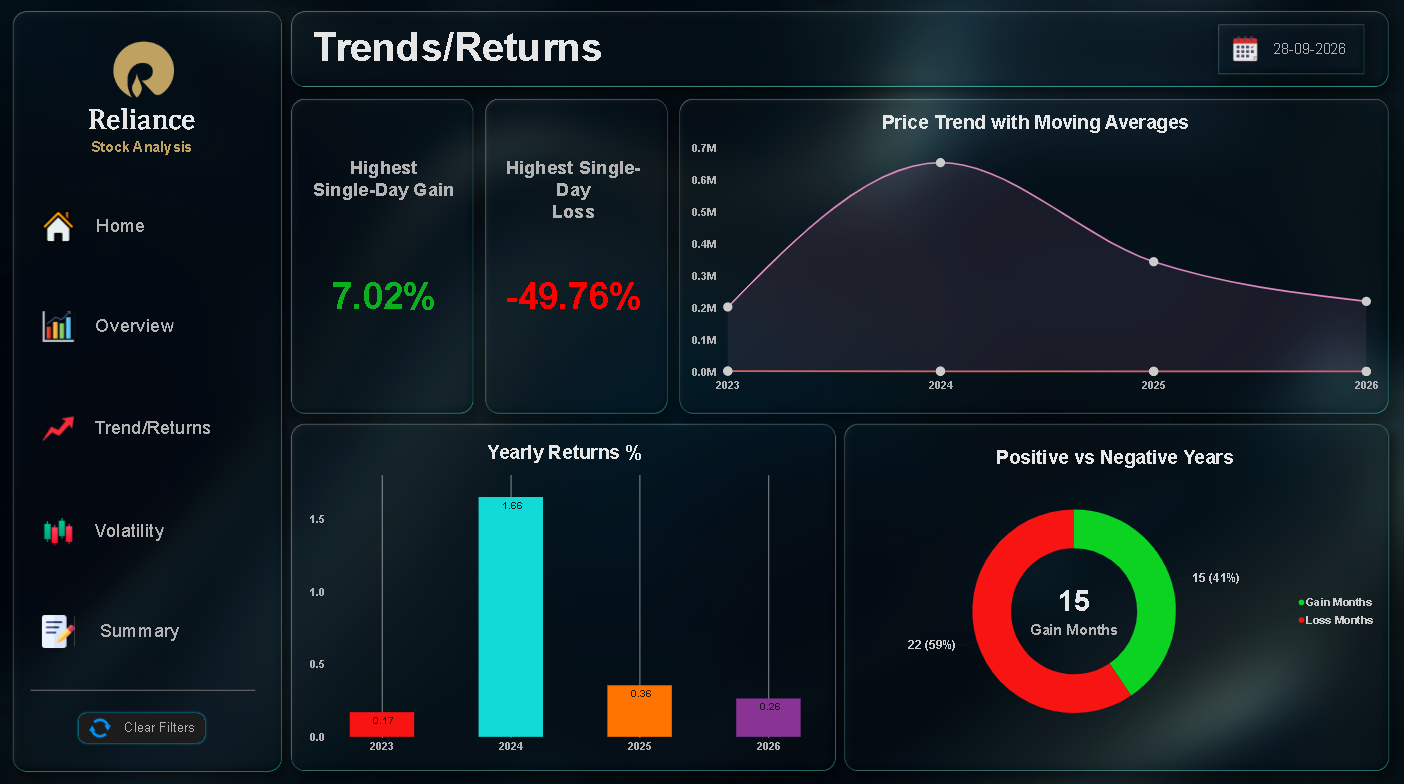

The dashboard page shown, as its layout file describes it:
{"tool":"powerbi","page":{"name":"Trends/Returns","canvas":[2560,1440],"ordinal":2},"visuals":[{"type":"image","box":[2246,69,48,48],"z":0,"group":"g1"},{"type":"lineChart","title":"Price Trend with Moving Averages","fields":{"Category":["Stock project row data.DATE.Variation.Date Hierarchy.Year","Stock project row data.DATE.Variation.Date Hierarchy.Quarter","Stock project row data.DATE.Variation.Date Hierarchy.Month","Stock project row data.DATE.Variation.Date Hierarchy.Day"],"Y":["Sum(Stock project row data.CLOSE)","Stock project row data.200 Day MA","Stock project row data.50 Day MA"]},"box":[1248,192,1280,544],"z":0},{"type":"textbox","box":[164.8,193.9,200,62.1],"z":0,"group":"g4"},{"type":"textbox","box":[2320,79,144,32],"z":1000,"group":"g1"},{"type":"cardVisual","title":"Highest Single-Day Gain","fields":{"Data":["Stock project row data.Highest Gain %"]},"box":[560,288,288,416],"z":1000},{"type":"image","box":[204.8,64,120,131.9],"z":2000,"group":"g4"},{"type":"textbox","box":[168.8,254,192,32],"z":2000,"group":"g5"},{"type":"cardVisual","title":"Highest Single-Day Loss","fields":{"Data":["Stock project row data.Highest Loss %"]},"box":[896,288,304,416],"z":2000},{"type":"clusteredColumnChart","title":"Yearly Returns %","fields":{"Category":["Stock project row data.Year"],"Y":["Stock project row data.Yearly Return %"]},"box":[552,792,960,600],"z":3000},{"type":"donutChart","title":"Positive vs Negative Years","fields":{"Y":["Stock project row data.Gain Months","Stock project row data.Loss Months"]},"box":[1536,800,992,576],"z":4000},{"type":"textbox","box":[576,48,888,120],"z":5000},{"type":"group","id":"g1","title":"Group 1","box":[2246,69,218,48],"z":6000},{"type":"group","id":"g2","title":"Group 5","box":[60.8,64,408,1232],"z":7000},{"type":"actionButton","box":[144,1296,240,64],"z":8000},{"type":"actionButton","box":[60.8,360,408,112],"z":10000,"group":"g3"},{"type":"group","id":"g3","title":"Group 1","box":[60.8,360,408,936],"z":11000,"group":"g2"},{"type":"actionButton","box":[60.8,541.9,408,112],"z":11000,"group":"g3"},{"type":"actionButton","box":[60.8,913.6,408,112],"z":12000,"group":"g3"},{"type":"group","id":"g4","title":"Group 3","box":[164.8,64,200,192],"z":13000,"group":"g5"},{"type":"actionButton","box":[60.8,723.8,408,120],"z":13000,"group":"g3"},{"type":"group","id":"g5","title":"Group 4","box":[164.8,64,200,222],"z":13001,"group":"g2"},{"type":"actionButton","box":[60.8,1095.5,408,112],"z":14000,"group":"g3"},{"type":"shape","box":[60.8,1224,408,72],"z":15000,"group":"g3"}]}

Visuals, with their boxes in screenshot pixels (x1, y1, x2, y2), scaled from the page's 2560x1440 canvas onto the 1404x784 screenshot:
image: (1232,38,1258,64)
"Price Trend with Moving Averages" lineChart: (684,105,1386,401)
textbox: (90,106,200,139)
textbox: (1272,43,1351,60)
"Highest Single-Day Gain" cardVisual: (307,157,465,383)
image: (112,35,178,107)
textbox: (93,138,198,156)
"Highest Single-Day Loss" cardVisual: (491,157,658,383)
"Yearly Returns %" clusteredColumnChart: (303,431,829,758)
"Positive vs Negative Years" donutChart: (842,436,1386,749)
textbox: (316,26,803,91)
"Group 1" group: (1232,38,1351,64)
"Group 5" group: (33,35,257,706)
actionButton: (79,706,211,740)
actionButton: (33,196,257,257)
"Group 1" group: (33,196,257,706)
actionButton: (33,295,257,356)
actionButton: (33,497,257,558)
"Group 3" group: (90,35,200,139)
actionButton: (33,394,257,459)
"Group 4" group: (90,35,200,156)
actionButton: (33,596,257,657)
shape: (33,666,257,706)
